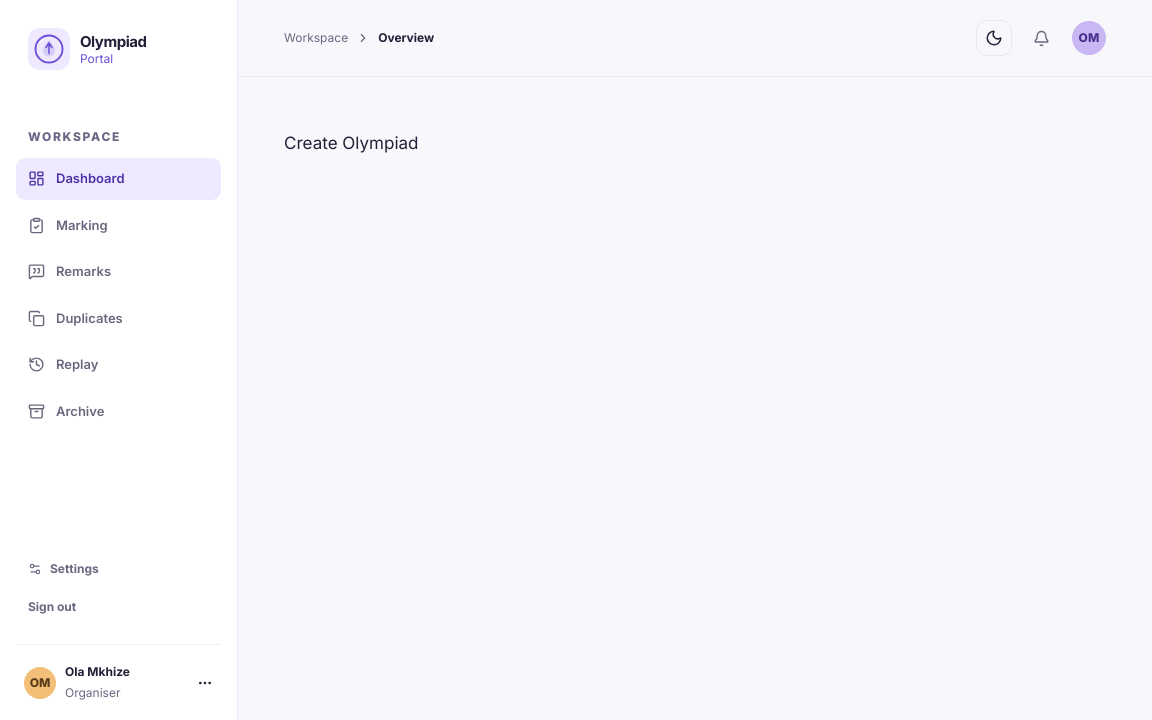
Test case: OrganiserShell onboarding (#317) › replays the tour from Settings
Step 1. Click the button "Settings" → (118, 569), box [16,550,221,588]
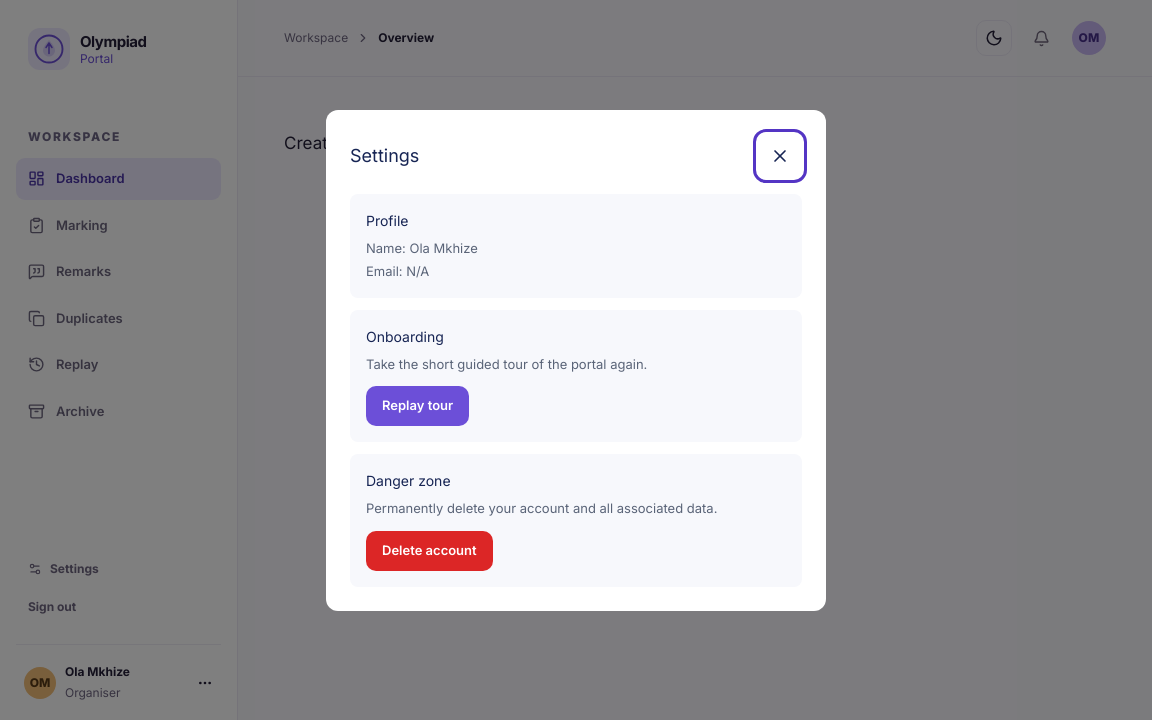
Check: the dialog "Settings" is shown, box [326,110,826,610]
Step 2. Click the button "Replay tour" → (418, 406), box [366,386,469,426]
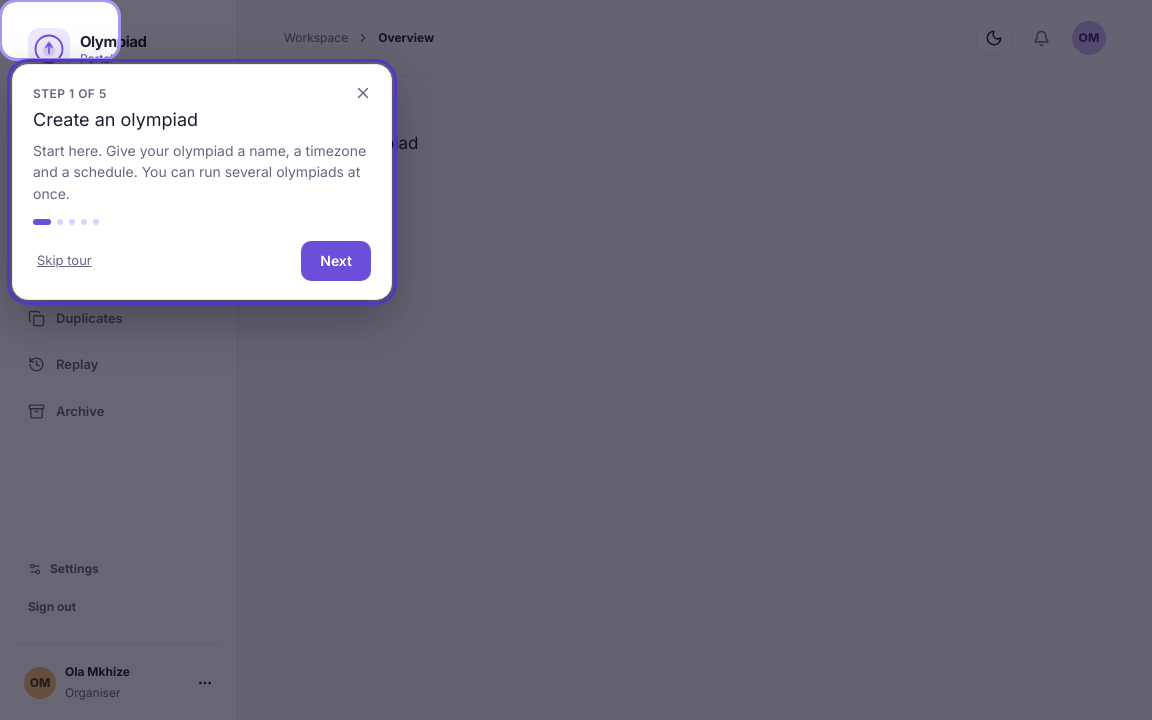
Check: the dialog "Create an olympiad" is shown, box [12,64,392,300]
